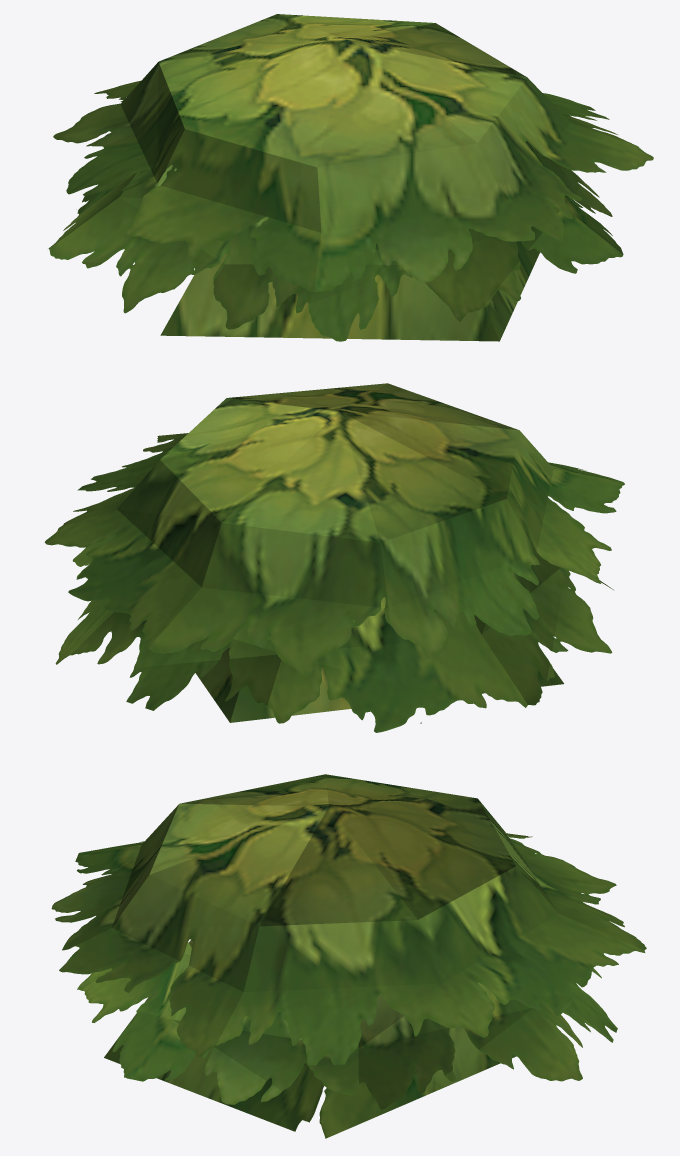
File: ZC_zhiwu03.FBX
3 renders of one model, top to bottom at view 1: azimuth 30°, elevation 25°; view 2: azimuth 150°, elevation 25°; view 3: azimuth 270°, elevation 25°, orthographic.
Parts seen in each view (by area): view 1: ZC_zhiwu03_001; view 2: ZC_zhiwu03_001; view 3: ZC_zhiwu03_001.
Part boxes in pixels (x1,y1,x2,y2): ZC_zhiwu03_001: (48,14,653,341); ZC_zhiwu03_001: (44,383,624,732); ZC_zhiwu03_001: (51,774,646,1138).
Bounding box in the file's own units: 227 × 96.05 × 235.
